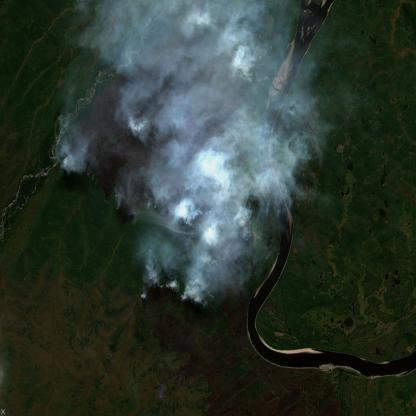fire: (61, 42, 253, 322)
